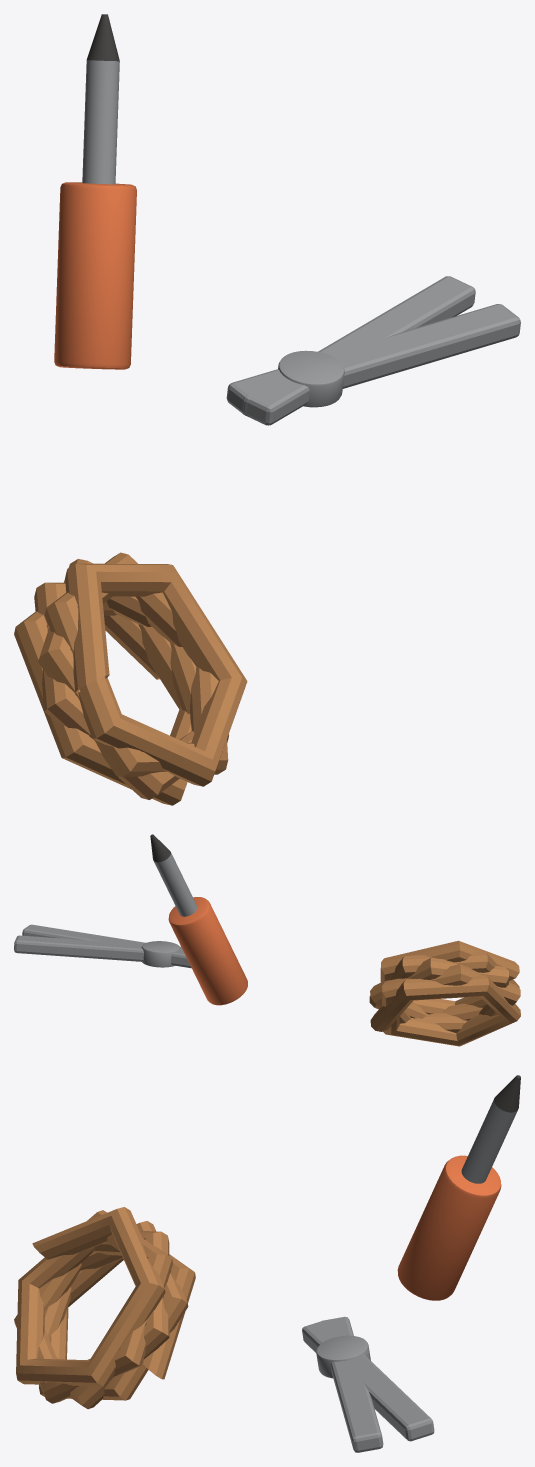
File: service_kit.glb
3 renders of one model, top to bottom at view 1: azimuth 30°, elevation 25°; view 2: azimuth 150°, elevation 25°; view 3: azimuth 270°, elevation 25°, orthographic. The views are drawn at different scales.
Visible parts, largest first — view 1: KIT_Coil, KIT_Iron, KIT_Pliers; view 2: KIT_Coil, KIT_Iron, KIT_Pliers; view 3: KIT_Coil, KIT_Iron, KIT_Pliers.
Part boxes in pixels (<box>): KIT_Coil: <box>14,552,247,805</box>; KIT_Iron: <box>54,14,136,369</box>; KIT_Pliers: <box>226,276,520,425</box>; KIT_Coil: <box>369,940,520,1046</box>; KIT_Iron: <box>150,834,247,1005</box>; KIT_Pliers: <box>14,924,191,968</box>; KIT_Coil: <box>14,1207,195,1409</box>; KIT_Iron: <box>397,1075,520,1300</box>; KIT_Pliers: <box>302,1316,434,1452</box>.
Size of the model in its own units: 0.2958 by 0.2232 by 0.2491.
